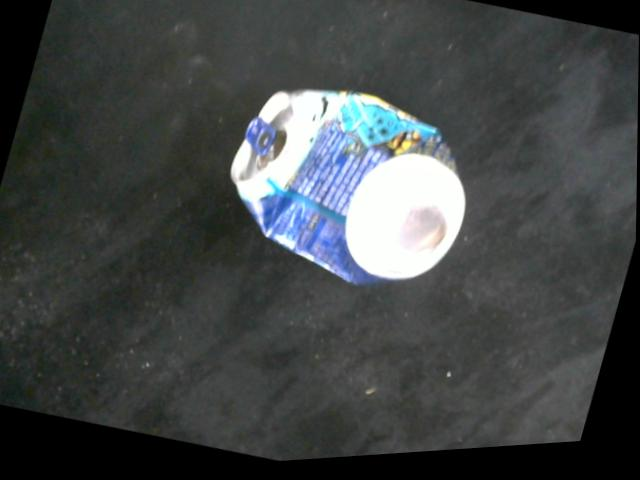can: (230, 90, 472, 288)
